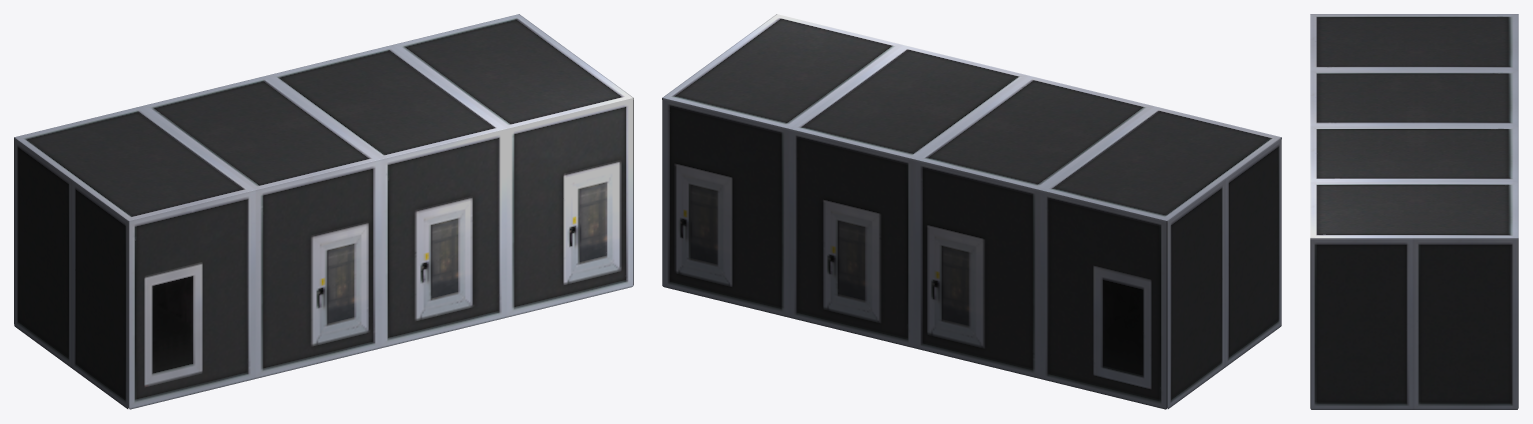
The model's file is kongtiaojizu001.FBX.
The picture shows the model from 3 angles, left to right: view 1: azimuth 30°, elevation 25°; view 2: azimuth 150°, elevation 25°; view 3: azimuth 270°, elevation 25°; orthographic projection. The views are drawn at different scales.
Parts seen in each view (by area): view 1: kongtiaojizu001_body; view 2: kongtiaojizu001_body; view 3: kongtiaojizu001_body.
Part boxes in pixels (x1,y1,x2,y2): kongtiaojizu001_body: [14, 14, 633, 409]; kongtiaojizu001_body: [662, 14, 1281, 409]; kongtiaojizu001_body: [1310, 14, 1518, 409].
Bounding box in the file's own units: 560 × 200 × 220.
